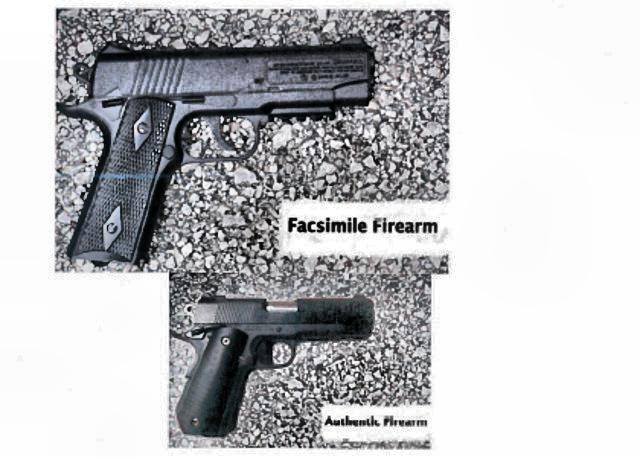pistol: (61, 26, 369, 270), (176, 280, 376, 448)
